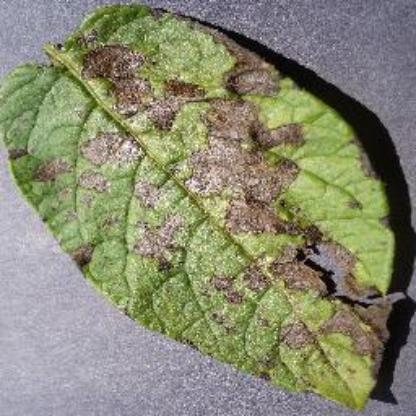Early-Blight: (6, 4, 412, 410)
